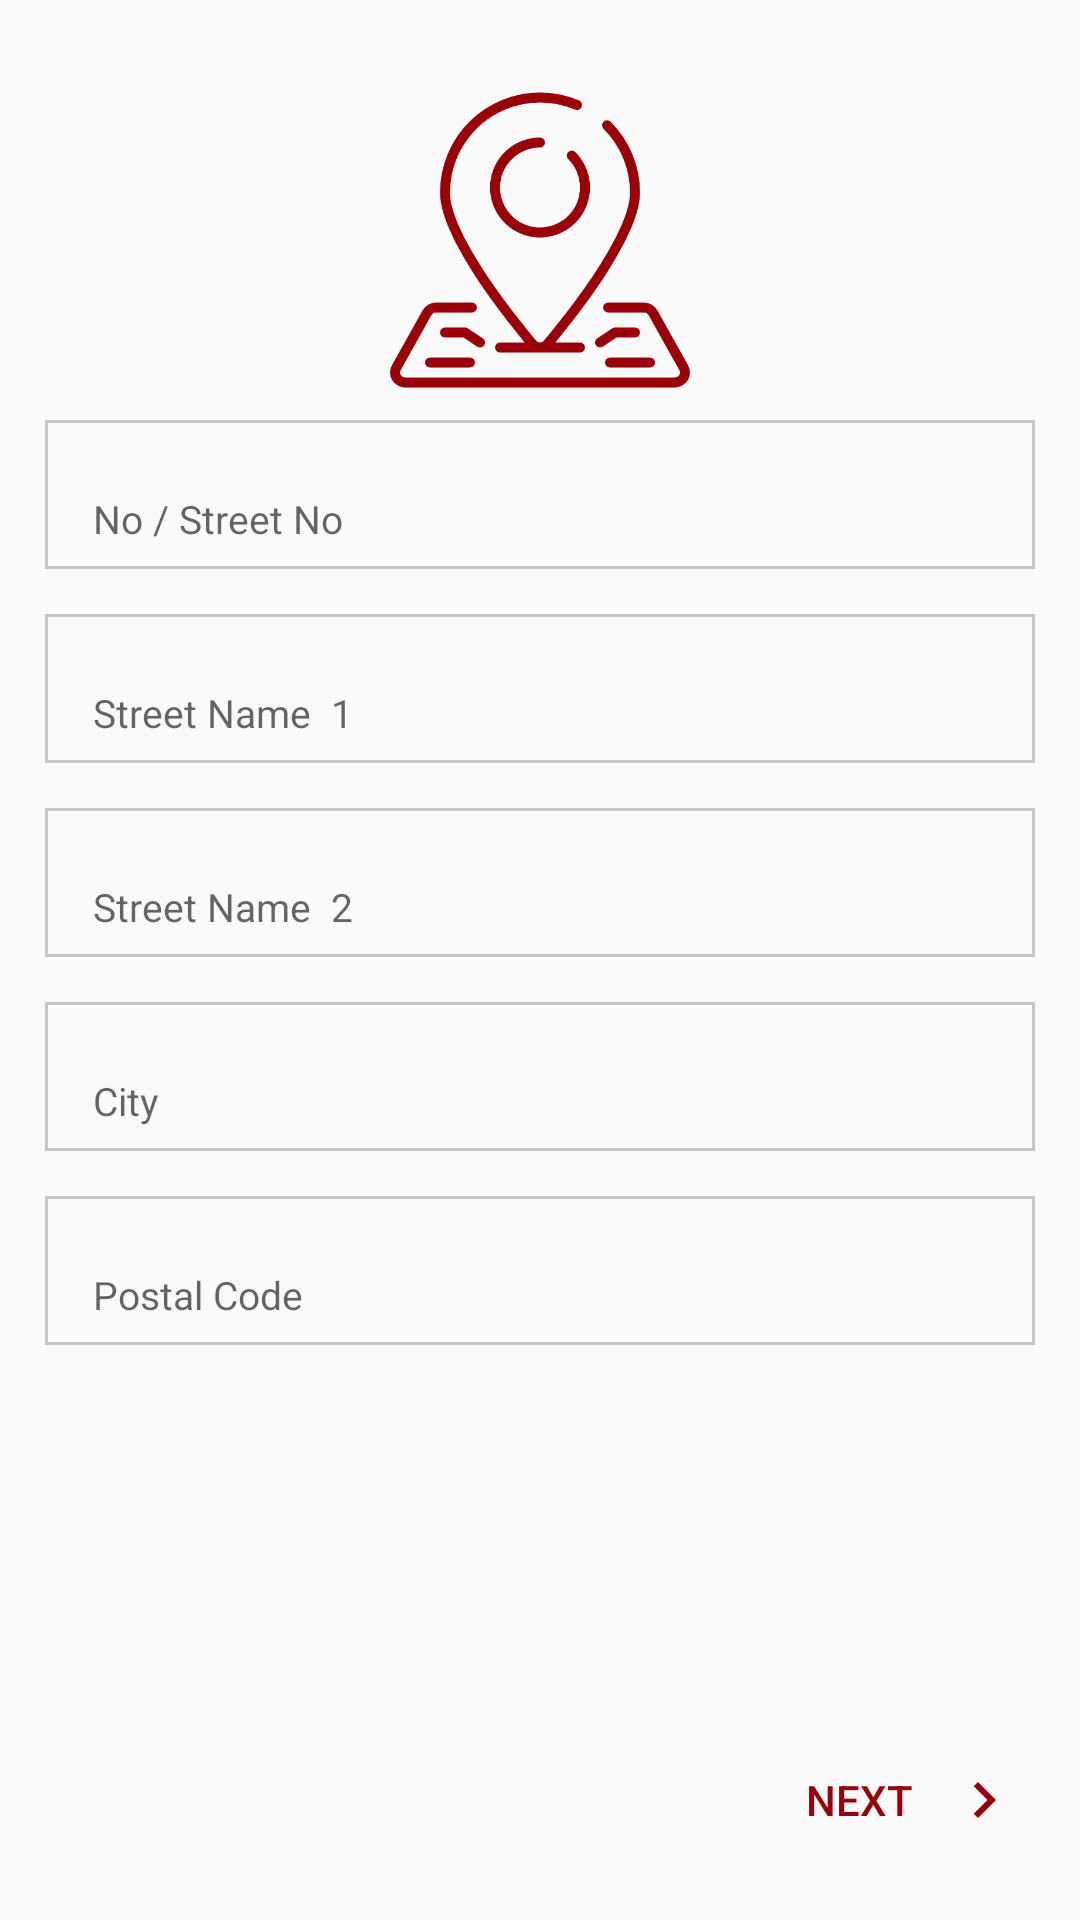

Locate icon controls on the screen. Image size 1080 x 1920, boxes as bbox(x1, y1, x2, y2).
location: bbox(390, 92, 690, 388)
